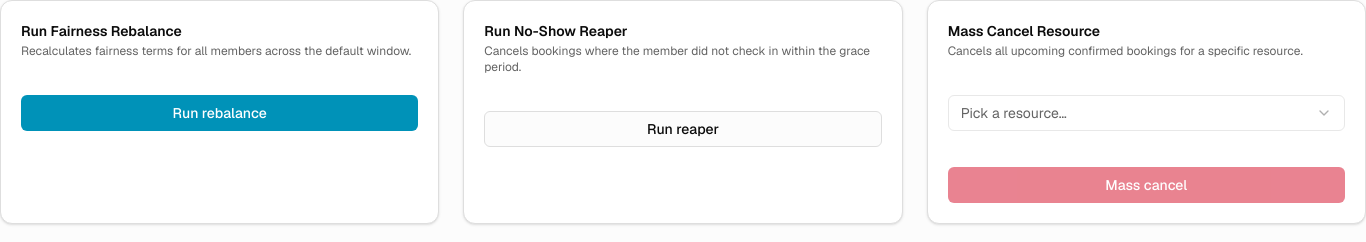
Test: OpsPanel › h) mass cancel — selecting resource enables the button
Note: Open the Select dropdown
Click the dropdown: (1014,113) [948,95,1345,131]
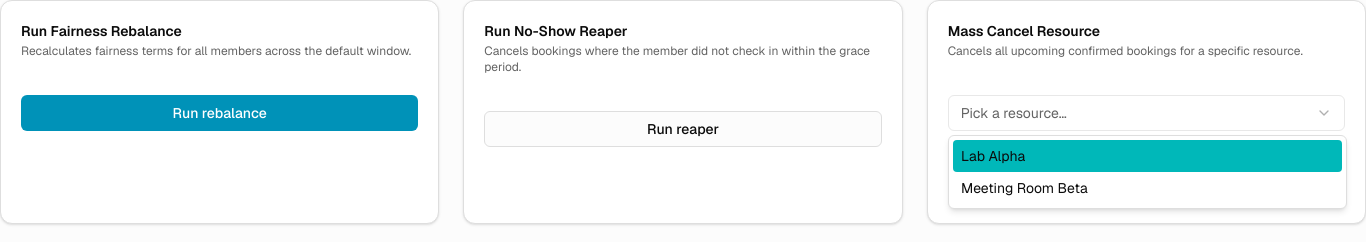
Note: Pick "Lab Alpha"
Click the option "Lab Alpha": (993,156) [953,140,1342,172]
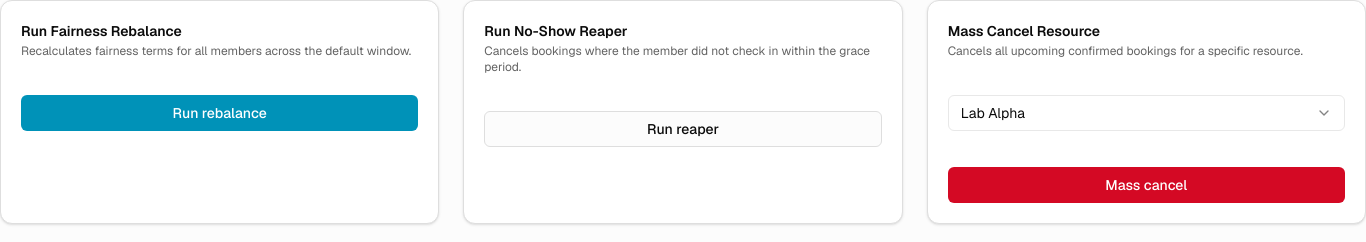
Check: the button "Mass cancel" is enabled, box [948,167,1345,203]
